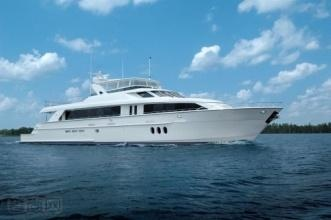yacht: (15, 61, 287, 147)
